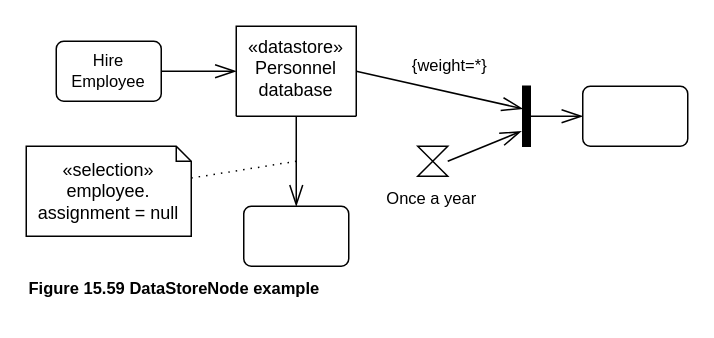
The diagram is 714 pixels wide and 338 high, and some of its shapes have lost their labels. Here are the shapes that lost their labels. From the top down, the box of each, then its label:
(581, 85, 688, 146): Review Employee
(242, 205, 349, 266): Assign Employee
